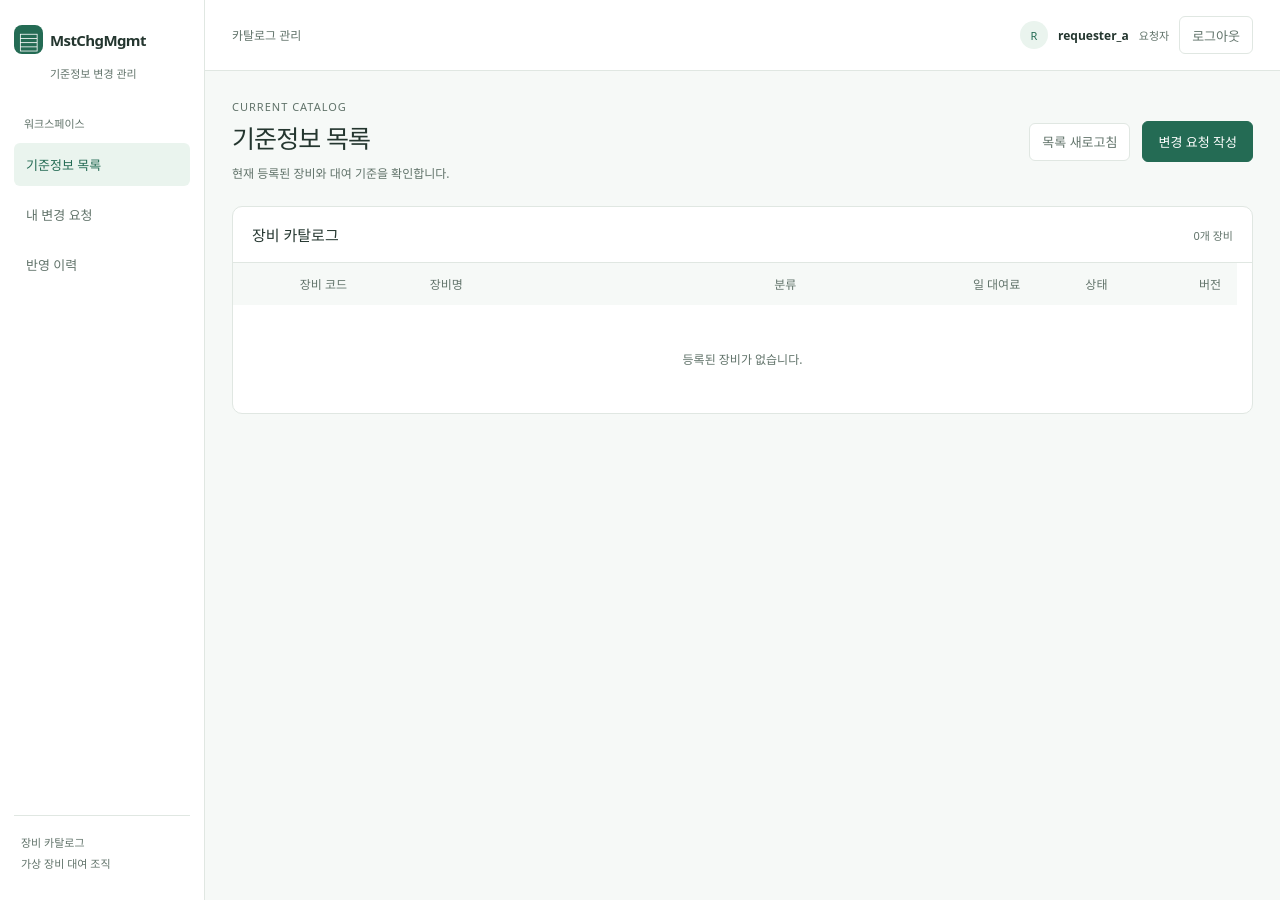
요청자는 빈 목록을 확인하고 자신의 임시 요청을 만들 수 있다
Click the button "내 변경 요청" at (102, 214), box x1=14 y1=193 x2=190 y2=236
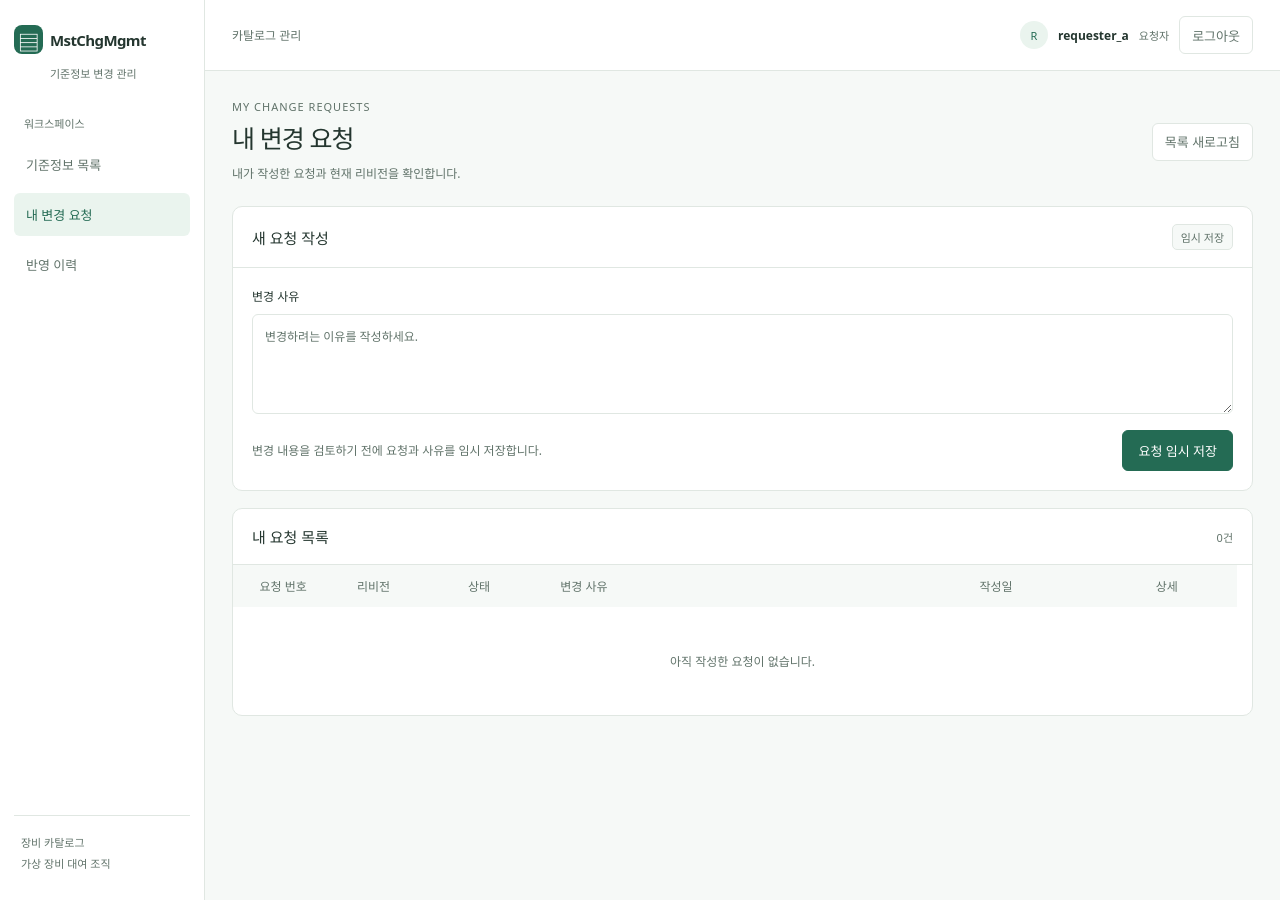
Now the text "아직 작성한 요청이 없습니다." is shown, box x1=670 y1=653 x2=815 y2=670
Type "카탈로그 정비" into the text box labelled "변경 사유" at (742, 364), box x1=252 y1=314 x2=1233 y2=414
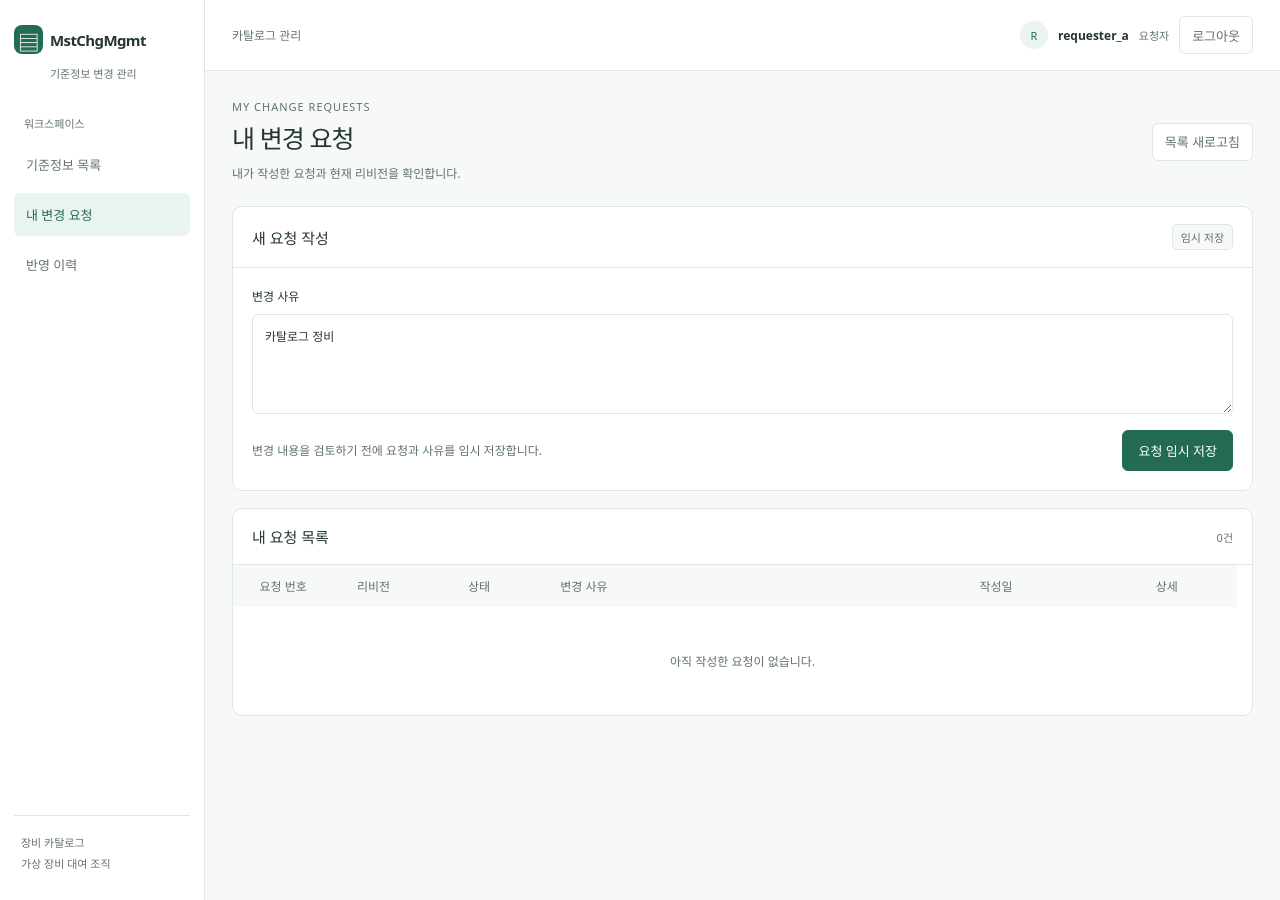
Click the button "요청 임시 저장" at (1178, 451), box x1=1122 y1=430 x2=1233 y2=471
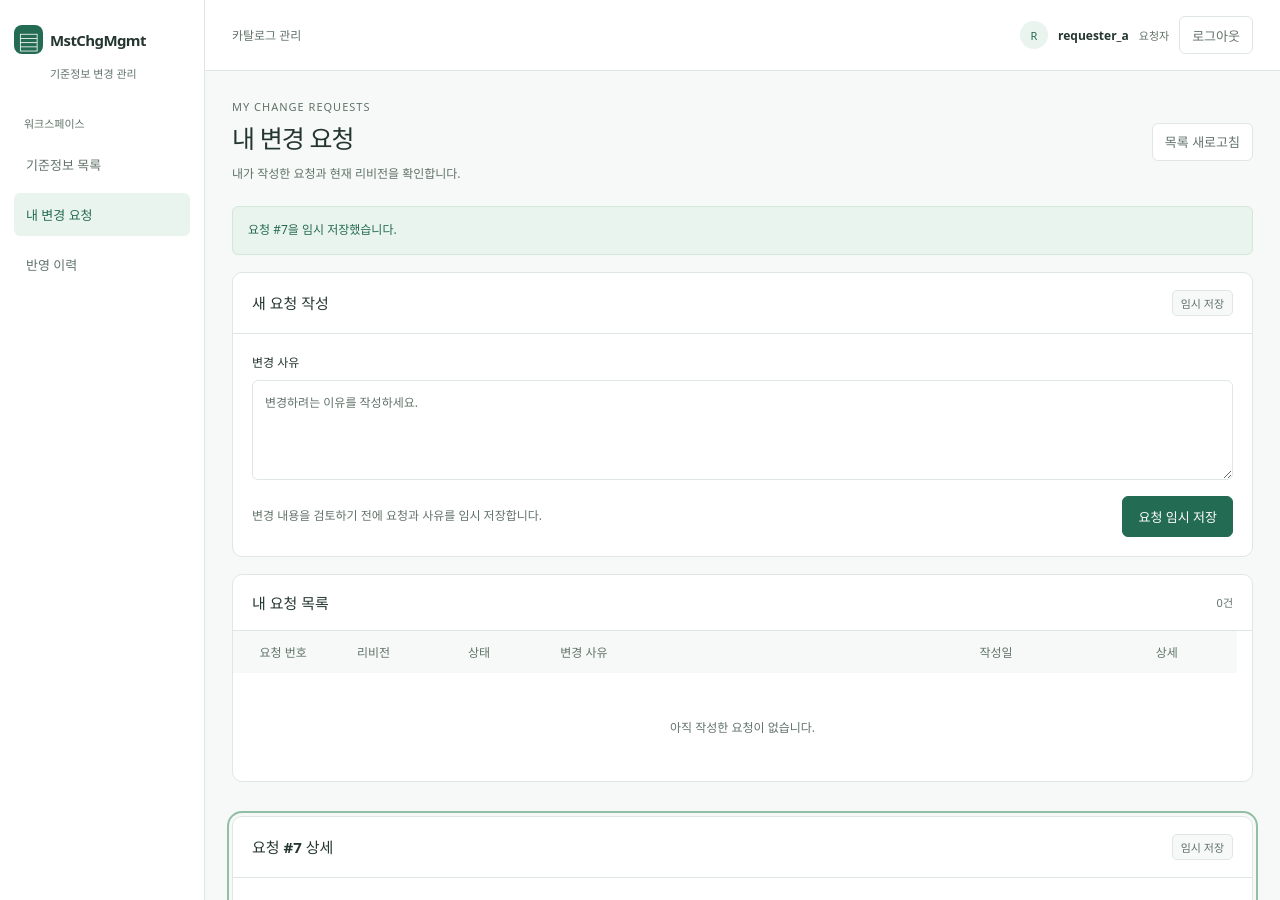
Now the message reads "요청 #7을 임시 저장했습니다.", box x1=248 y1=221 x2=397 y2=238
